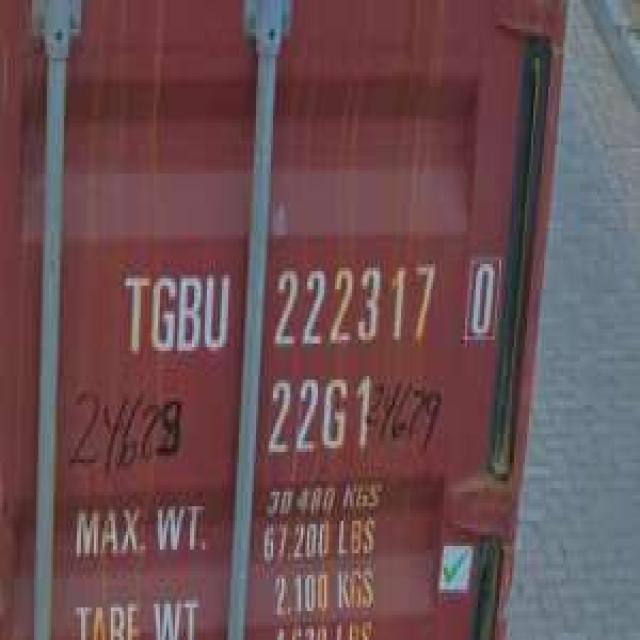dv: (461, 246, 501, 347)
owner: (118, 264, 232, 362)
serial: (264, 253, 440, 354)
size: (260, 369, 374, 463)
